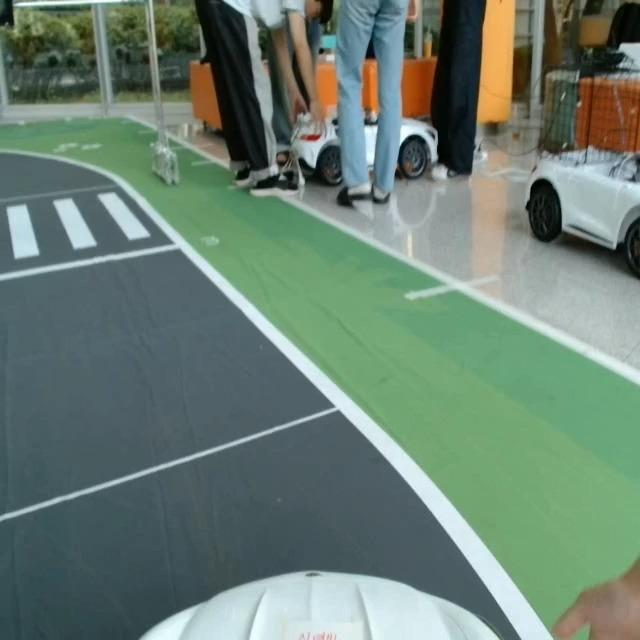traffic-light: (0, 0, 21, 33)
